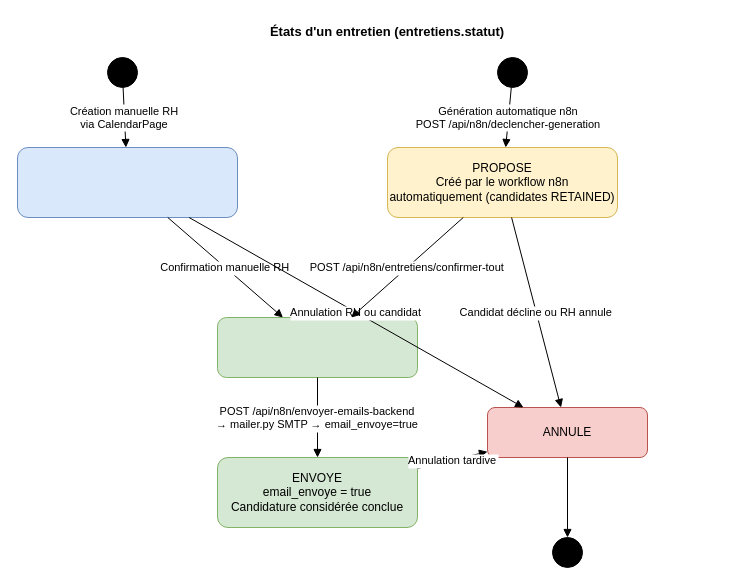
The diagram is 755 pixels wide and 585 high, and some of its shapes have lost their labels. The shapes that lost their labels are listed below. From the top down, each one's box as (x1, y1, x2, y2) in pixels, then its label:
(16, 146, 238, 218): PLANIFIE Créé via CalendarPage (FullCalendar, date manuelle)
(216, 316, 418, 378): CONFIRME Entretien confirmé
